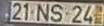1: (22, 2, 29, 21)
2: (70, 4, 82, 23), (11, 1, 22, 20)
4: (82, 5, 93, 24)
N: (35, 2, 49, 22)
S: (49, 3, 64, 22)
